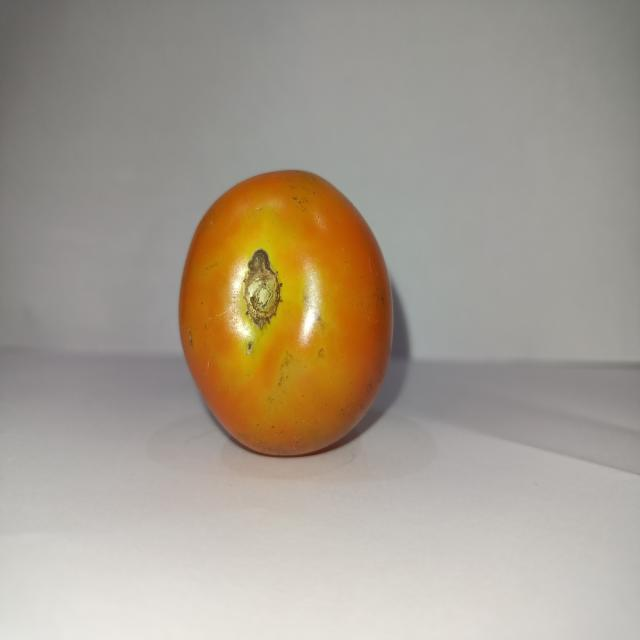Red: (176, 167, 394, 457)
